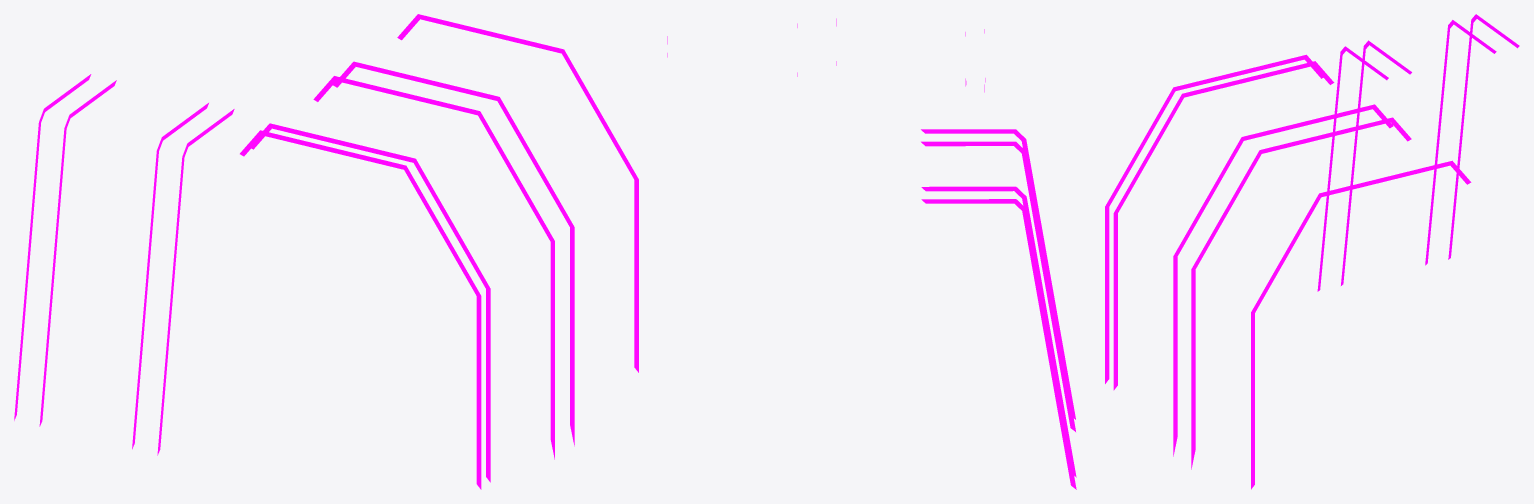
Rendered from purple-emission.glb.
3 views of the same model, side by side, from view 1: azimuth 30°, elevation 25°; view 2: azimuth 150°, elevation 25°; view 3: azimuth 270°, elevation 25° (orthographic). The views are drawn at different scales.
Parts seen in each view (by area): view 1: Structure.001; view 2: Structure.001; view 3: Structure.001.
Part boxes in pixels (x1,y1,x2,y2): Structure.001: [14, 14, 638, 489]; Structure.001: [667, 18, 1076, 489]; Structure.001: [1105, 14, 1519, 489].
Bounding box in the file's own units: 13.71 × 8.41 × 10.41.
